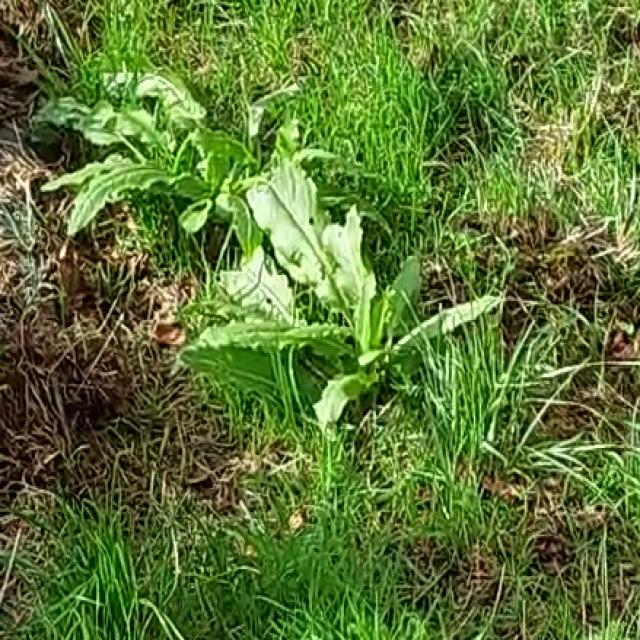organic waste: (184, 170, 500, 456), (0, 0, 277, 213)
